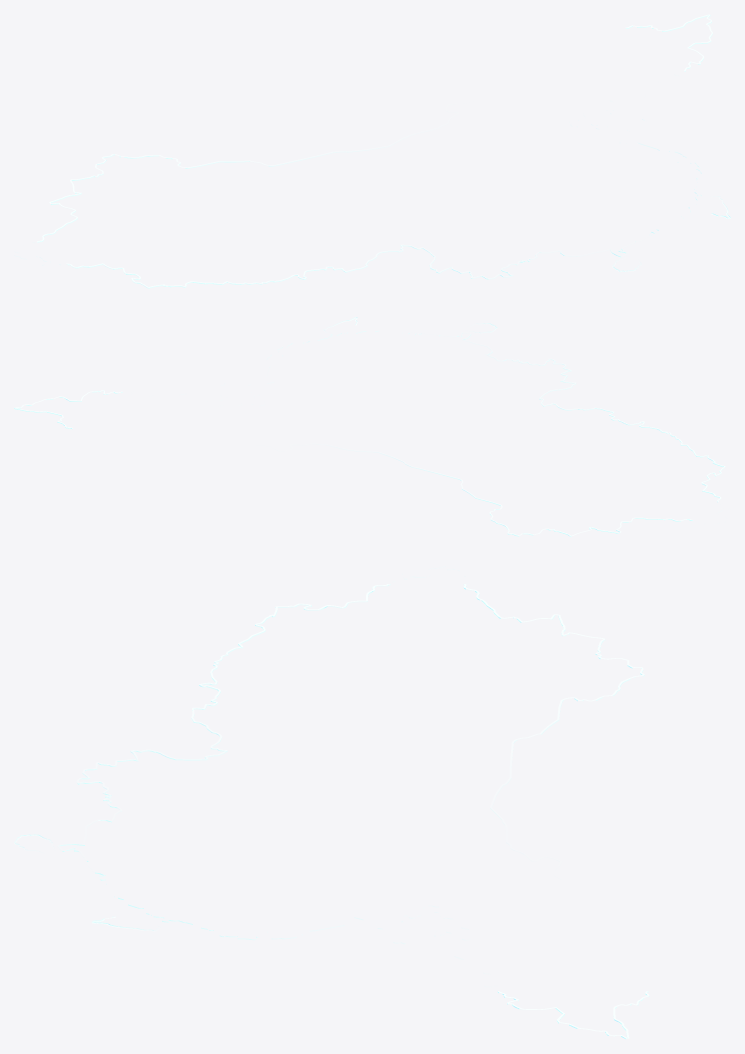
File: light.glb
3 views of the same model, one above another, from view 1: azimuth 30°, elevation 25°; view 2: azimuth 150°, elevation 25°; view 3: azimuth 270°, elevation 25° (orthographic). The views are drawn at different scales.
Visible parts, largest first — view 1: 外轮廓流动; view 2: 外轮廓流动; view 3: 外轮廓流动.
Boxes of the visible parts, x1=… form: 外轮廓流动: x1=37, y1=14, x2=730, y2=288; 外轮廓流动: x1=14, y1=317, x2=725, y2=536; 外轮廓流动: x1=14, y1=577, x2=649, y2=1038.
Size of the model in its own units: 55.76 by 0.1348 by 35.69.
Materials: 1 (1 with a texture image).
